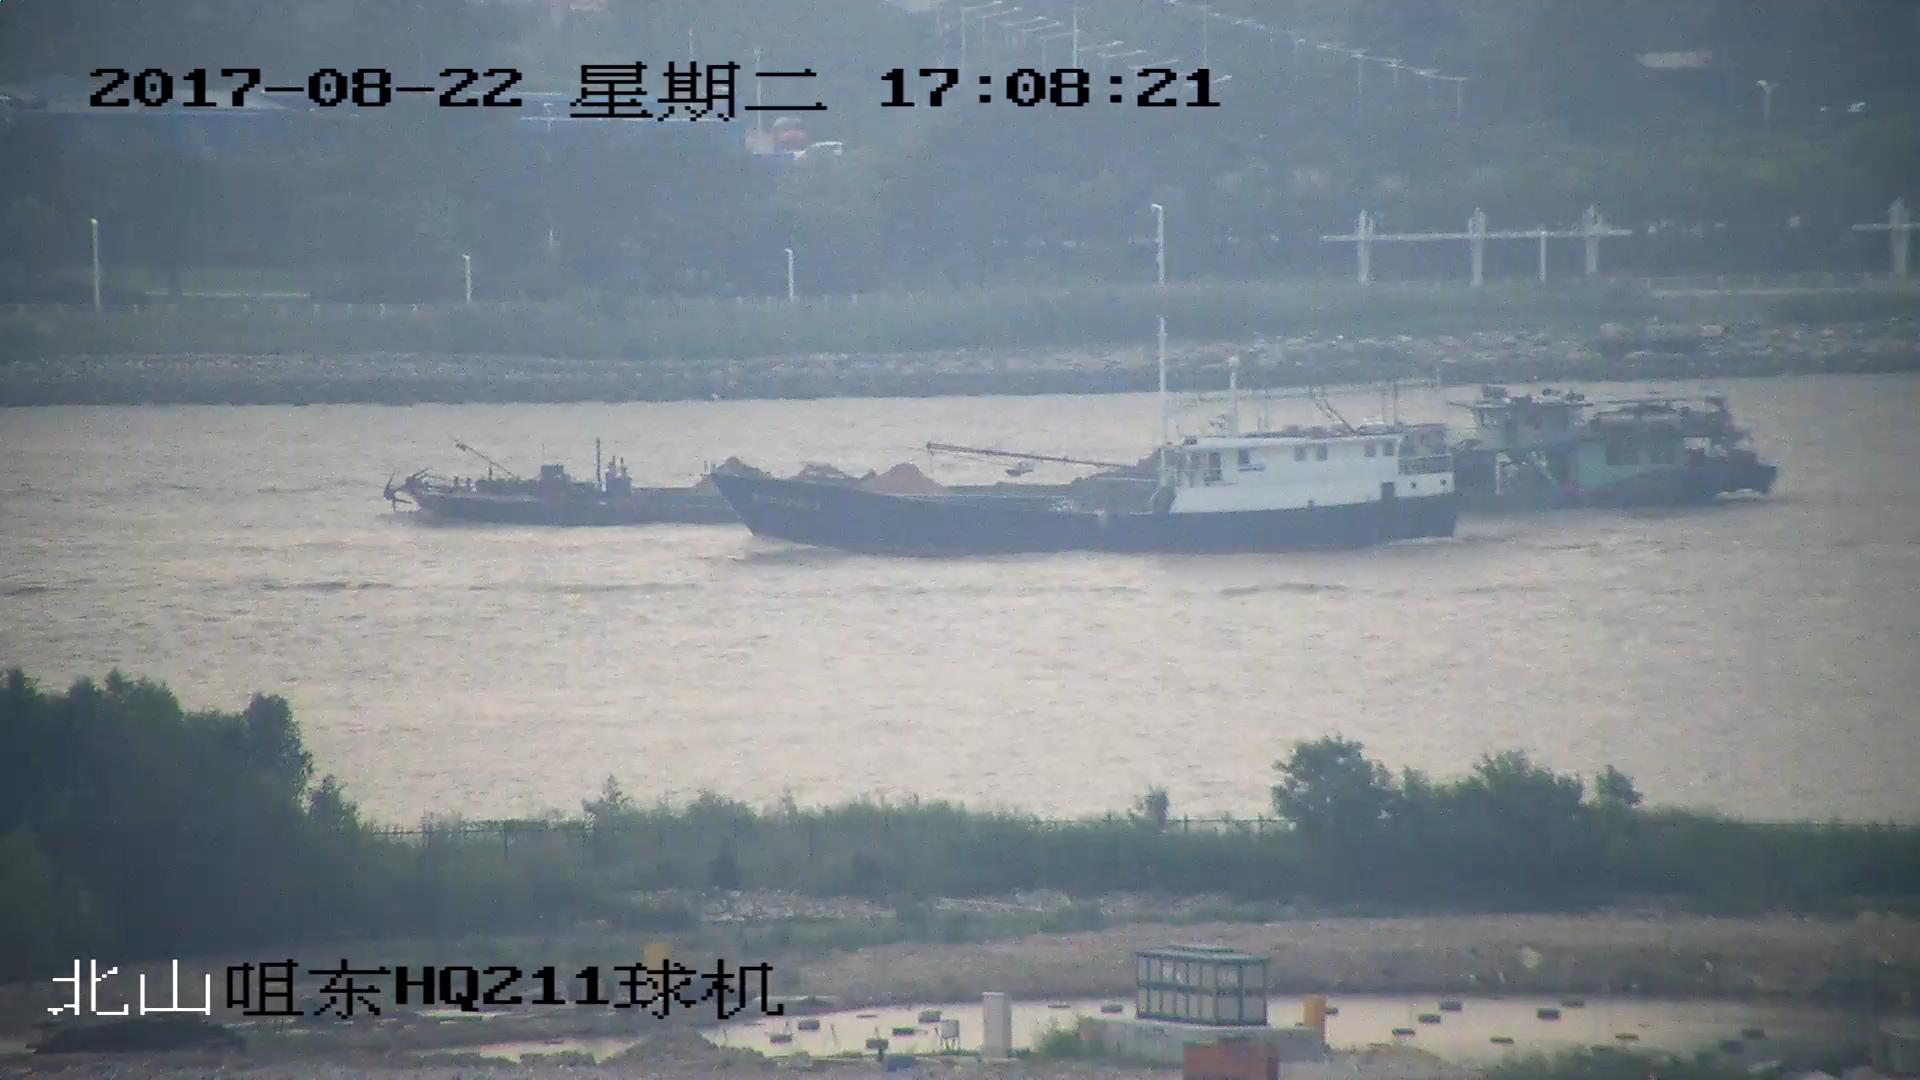fishing boat: (714, 374, 1451, 554)
ore carrier: (378, 373, 1780, 529)
